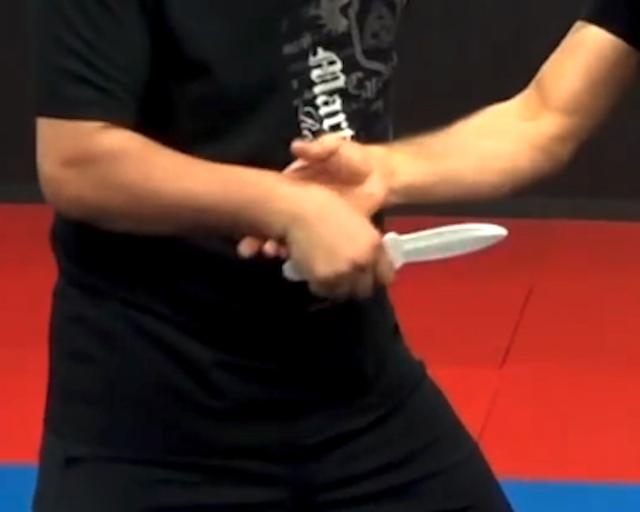pocket-knife: (282, 224, 518, 292)
